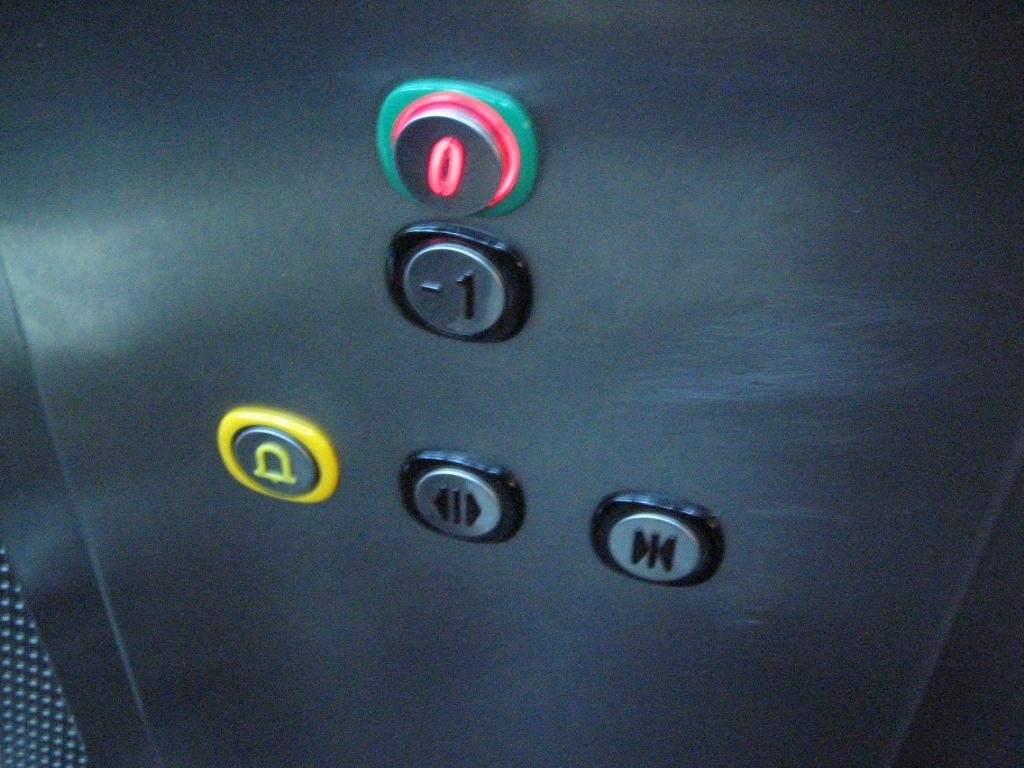-1: (383, 222, 534, 342)
0: (375, 78, 538, 216)
alarm: (215, 408, 339, 505)
close: (588, 493, 724, 587)
open: (399, 450, 527, 545)
